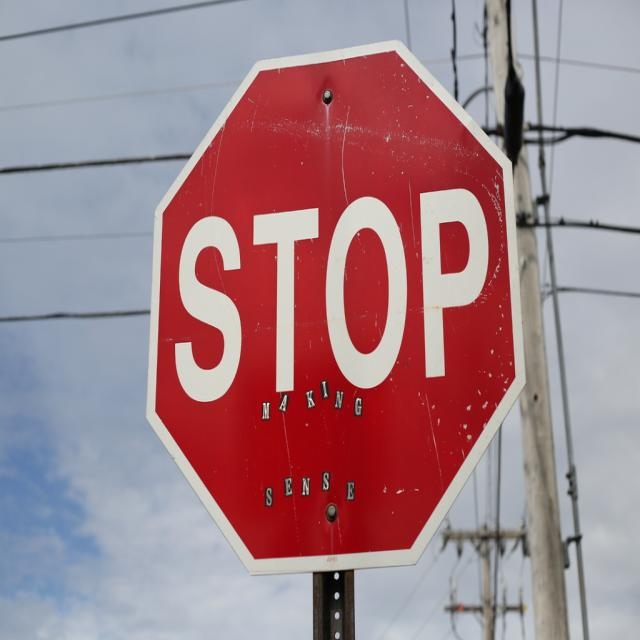Stop-sign: (144, 39, 526, 568)
